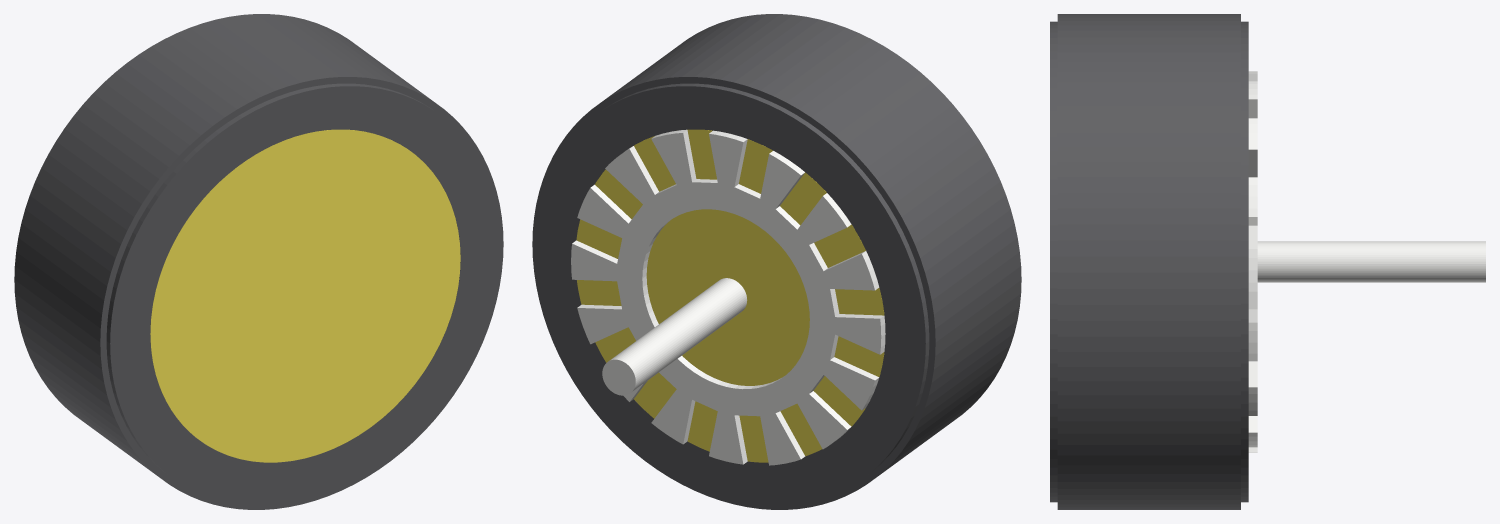
The model's file is wheel_r.glb.
3 views of the same model, side by side, from view 1: azimuth 30°, elevation 25°; view 2: azimuth 150°, elevation 25°; view 3: azimuth 270°, elevation 25° (orthographic). The views are drawn at different scales.
Visible parts, largest first — view 1: tyre_r, rim_r; view 2: tyre_r, encoder_ring_r, rim_r, tt_shaft_r; view 3: tyre_r, tt_shaft_r, encoder_ring_r.
Boxes of the visible parts, <box> form: tyre_r: <box>14,14,503,509</box>; rim_r: <box>150,129,460,462</box>; tyre_r: <box>532,14,1021,509</box>; encoder_ring_r: <box>571,129,885,465</box>; rim_r: <box>576,129,884,462</box>; tt_shaft_r: <box>602,278,747,395</box>; tyre_r: <box>1050,14,1248,509</box>; tt_shaft_r: <box>1257,241,1485,282</box>; encoder_ring_r: <box>1248,71,1257,452</box>.
Size of the model in its own units: 0.065 by 0.065 by 0.0571.
